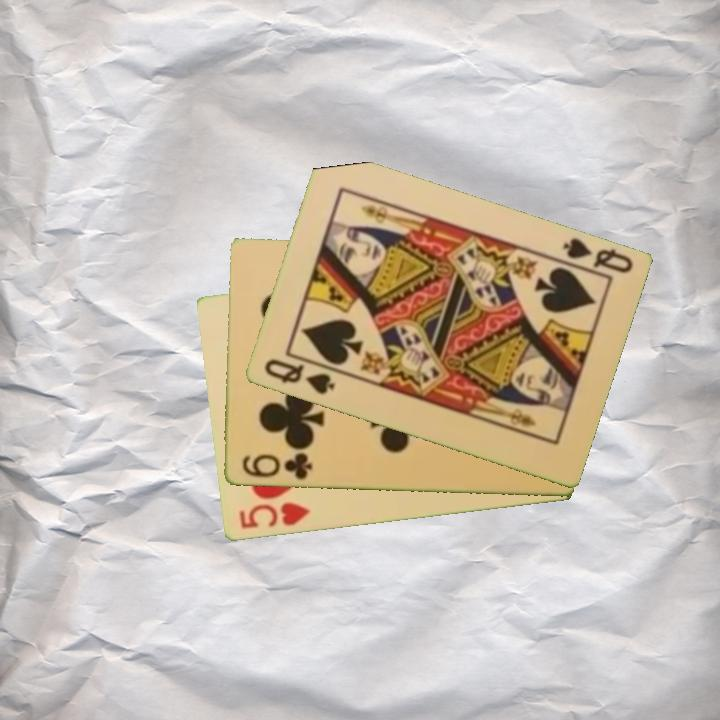5h: (235, 499, 312, 532)
6c: (238, 449, 314, 483)
Qs: (260, 355, 337, 398), (559, 234, 636, 277)
